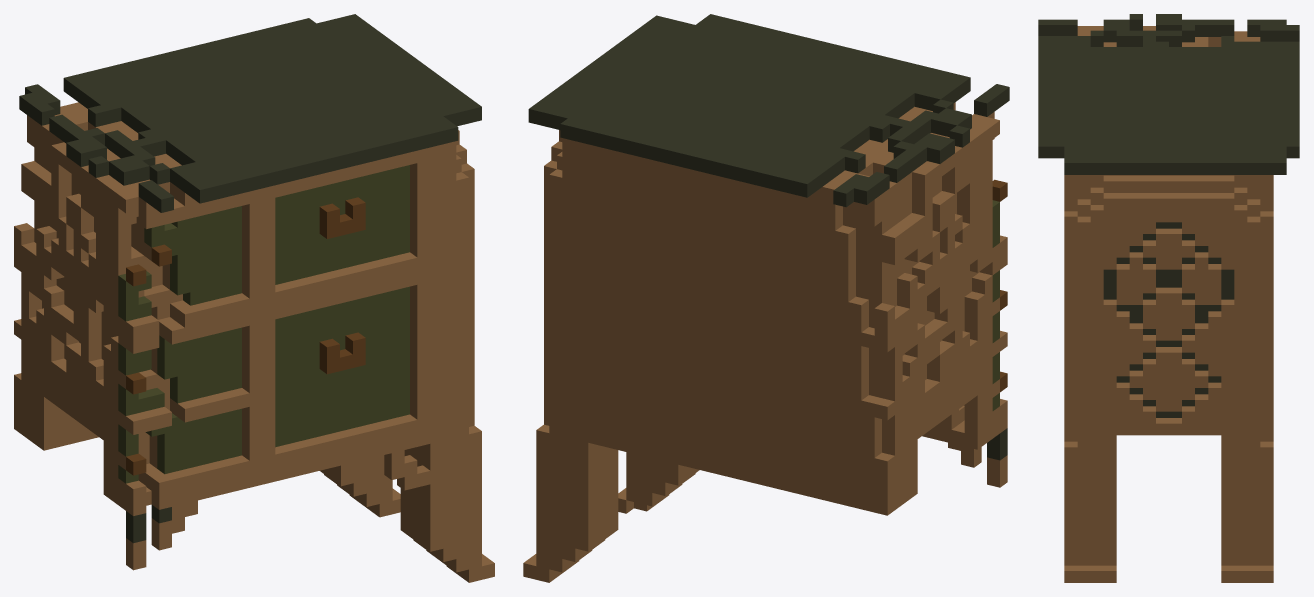
The model's file is Commode 1 brise.obj.
3 views of the same model, side by side, from view 1: azimuth 30°, elevation 25°; view 2: azimuth 150°, elevation 25°; view 3: azimuth 270°, elevation 25° (orthographic). The views are drawn at different scales.
Parts seen in each view (by area): view 1: Commode 1 brise; view 2: Commode 1 brise; view 3: Commode 1 brise.
Boxes of the visible parts, box(x1,y1,x2,y2) form: Commode 1 brise: box(14, 14, 494, 582); Commode 1 brise: box(523, 14, 1009, 582); Commode 1 brise: box(1038, 14, 1299, 582).
Bounding box in the file's own units: 28 × 35 × 20.
Materials: 1 (1 with a texture image).
